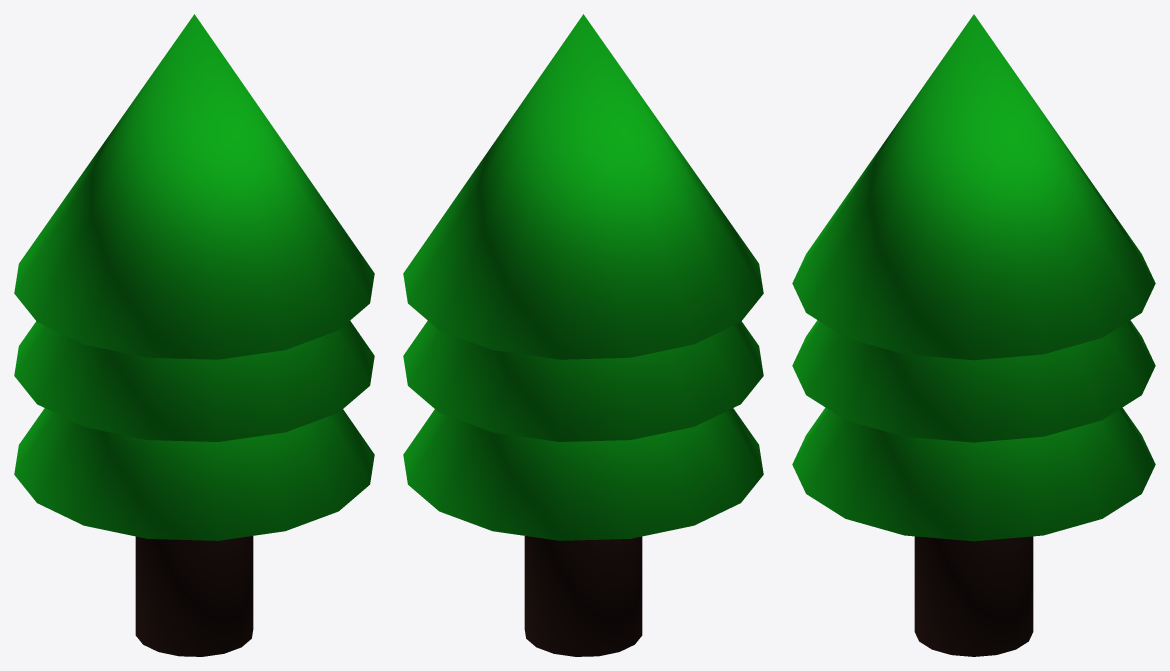
File: pinheiro.obj
3 renders of one model, left to right at view 1: azimuth 30°, elevation 25°; view 2: azimuth 150°, elevation 25°; view 3: azimuth 270°, elevation 25°, orthographic.
Parts seen in each view (by area): view 1: Cylinder; view 2: Cylinder; view 3: Cylinder.
Part boxes in pixels (bbox=[...]): Cylinder: bbox=[14, 14, 374, 656]; Cylinder: bbox=[403, 14, 763, 656]; Cylinder: bbox=[792, 14, 1155, 656].
Bounding box in the file's own units: 2.45 × 4.59 × 2.45.
